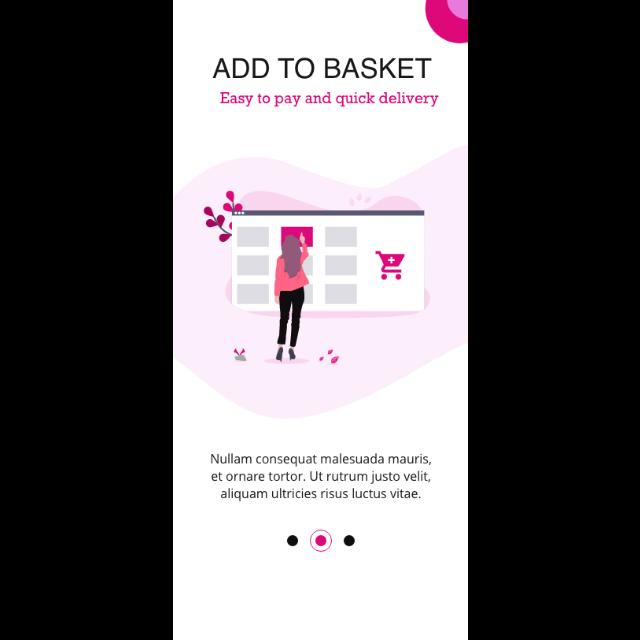image: (202, 189, 430, 365)
pageindicator: (286, 528, 356, 554)
text: (210, 452, 432, 502), (213, 58, 432, 80), (220, 92, 438, 108)
